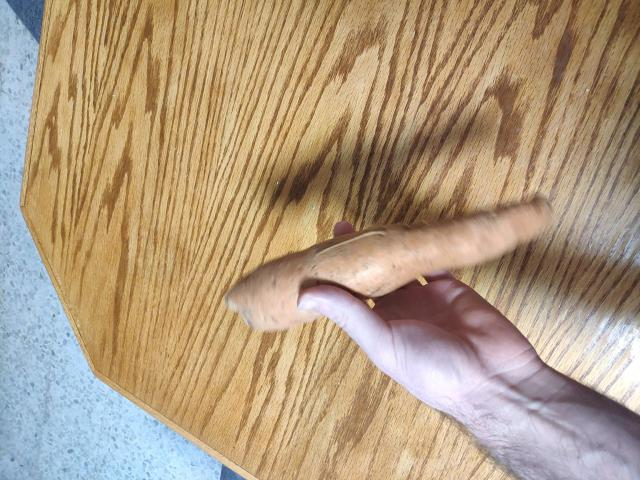sweet_potato: (231, 221, 569, 312)
